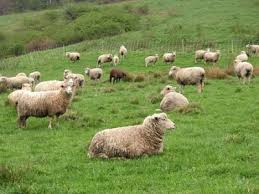sheep: (84, 113, 174, 162), (13, 87, 74, 132), (158, 86, 192, 114), (171, 68, 207, 94), (1, 70, 41, 93), (34, 78, 72, 97), (230, 59, 256, 84), (62, 70, 84, 91), (85, 66, 106, 82), (202, 50, 224, 65), (93, 52, 114, 66), (143, 54, 161, 68), (66, 50, 82, 65), (195, 47, 210, 61), (232, 50, 248, 63), (164, 50, 178, 64), (245, 42, 258, 57), (119, 46, 131, 58), (111, 54, 122, 67)
